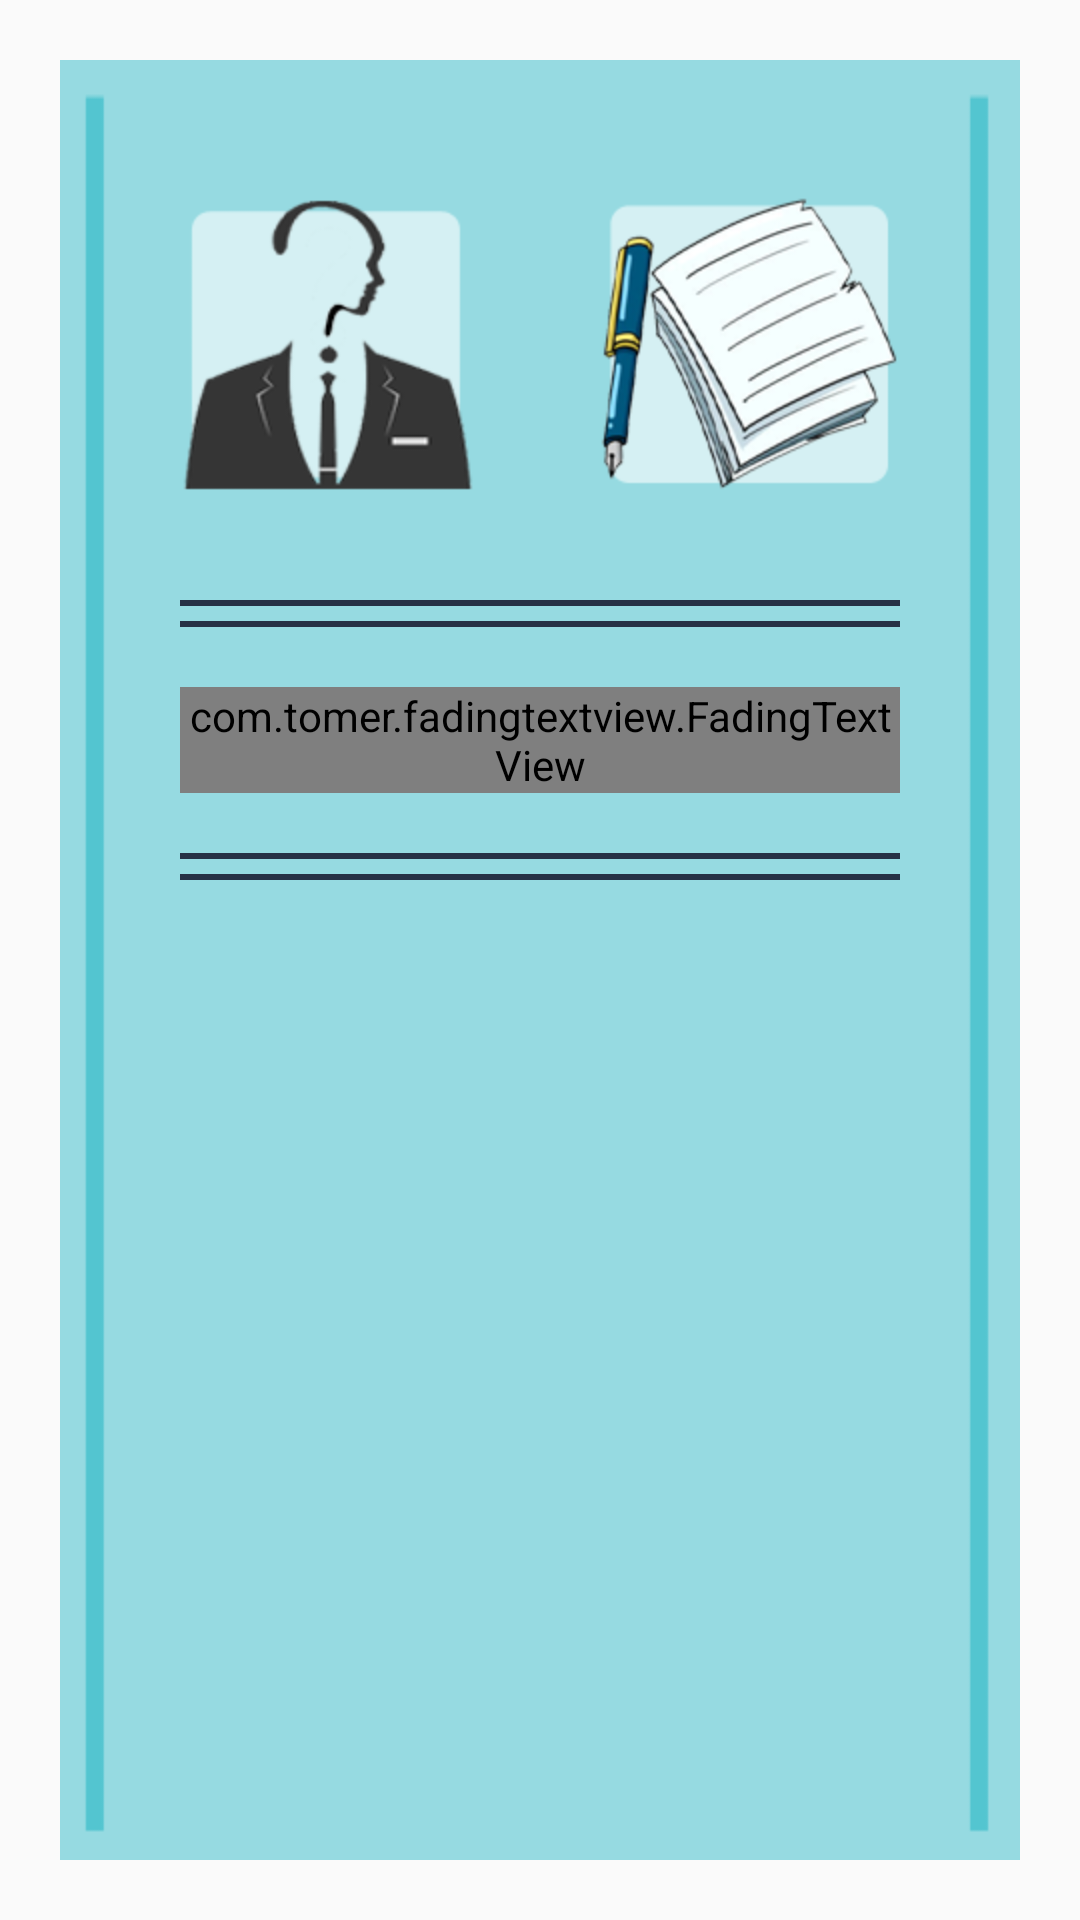

Where to tap for icons on this 1080×1920 app screen, as (x=x, y=y):
checkman: (x=328, y=345)
paperpen: (x=749, y=343)
